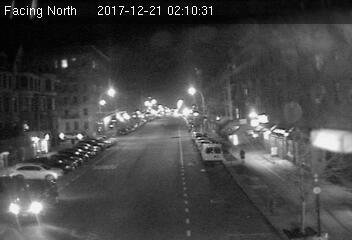car: (8, 181, 60, 219)
pedestrian: (236, 150, 248, 165)
truck: (202, 143, 224, 165)
